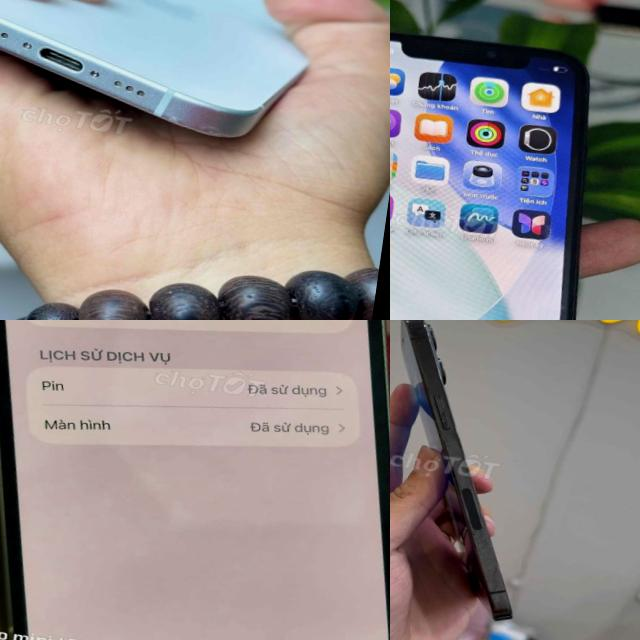gen_11: (390, 12, 623, 320)
gen_12_13: (0, 320, 390, 640), (390, 320, 558, 632)
gen_15: (0, 0, 357, 167)
scratch: (153, 100, 249, 144)
